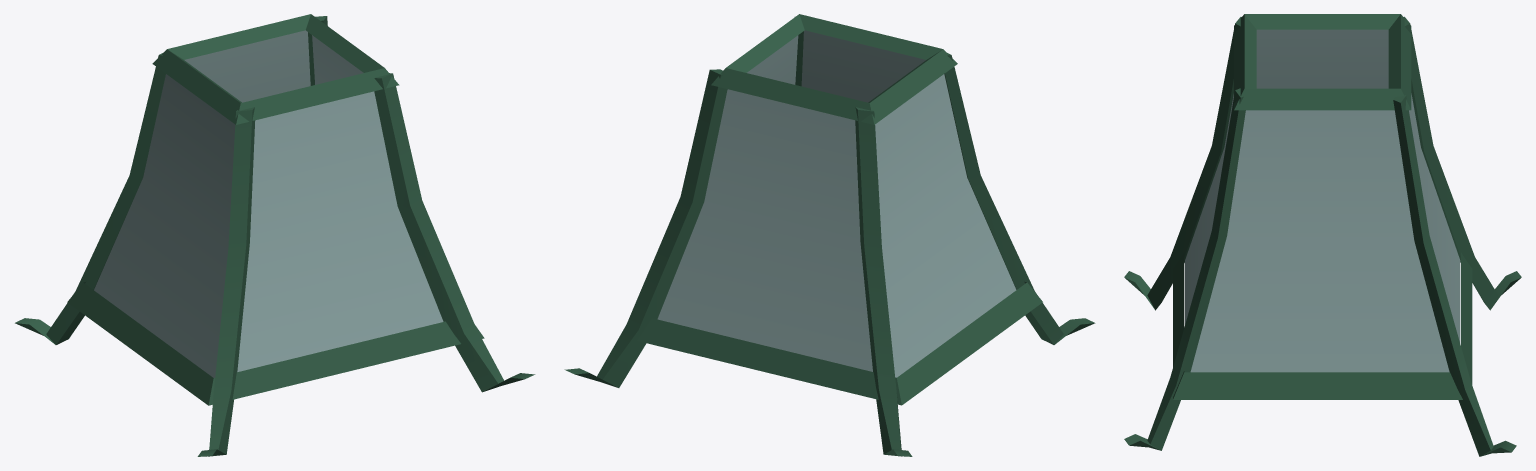
File: lamp_table1.gltf
3 renders of one model, left to right at view 1: azimuth 30°, elevation 25°; view 2: azimuth 150°, elevation 25°; view 3: azimuth 270°, elevation 25°, orthographic. The views are drawn at different scales.
Visible parts, largest first — view 1: Cube.003, Cube.001; view 2: Cube.003, Cube.001; view 3: Cube.003, Cube.001.
Part boxes in pixels (x1,y1,x2,y2): Cube.003: [94, 30, 443, 377]; Cube.001: [15, 14, 535, 456]; Cube.003: [657, 30, 1016, 377]; Cube.001: [564, 14, 1095, 456]; Cube.003: [1185, 29, 1460, 372]; Cube.001: [1124, 14, 1521, 456].
Bounding box in the file's own units: 0.4688 × 0.3927 × 0.4345.
